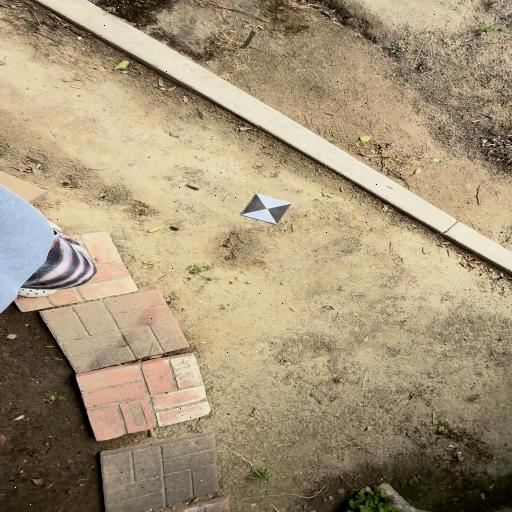target: (242, 194, 292, 224)
